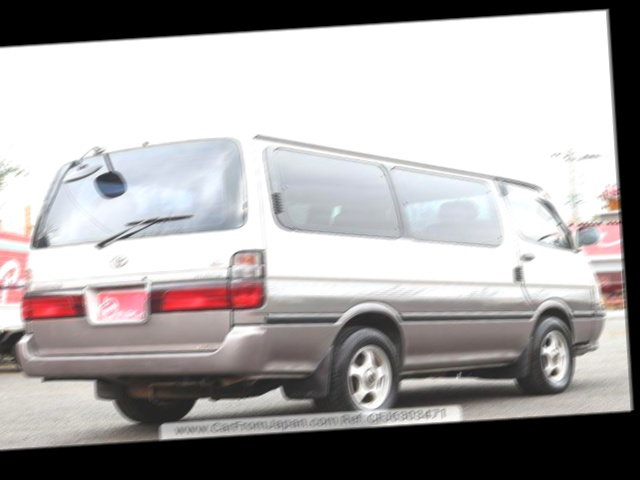van: (11, 101, 611, 427)
